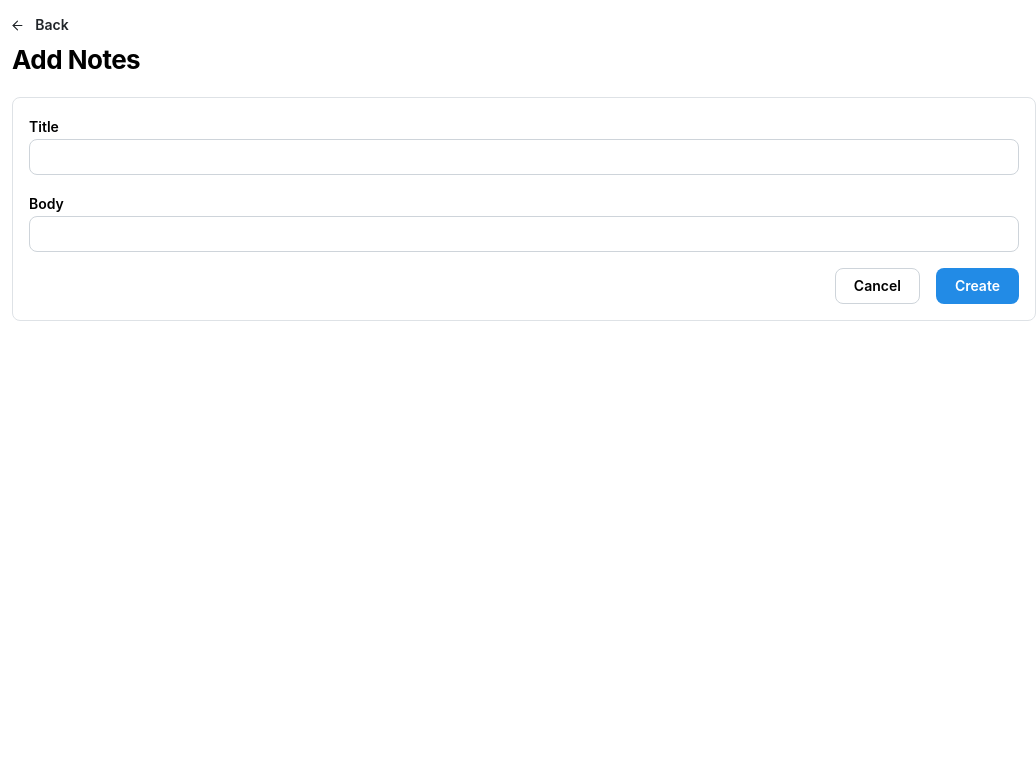
Scenario: CreatePage › surfaces a failed create and does not navigate away
Click the button "Create".
click(977, 286)  # box [936,268,1019,304]
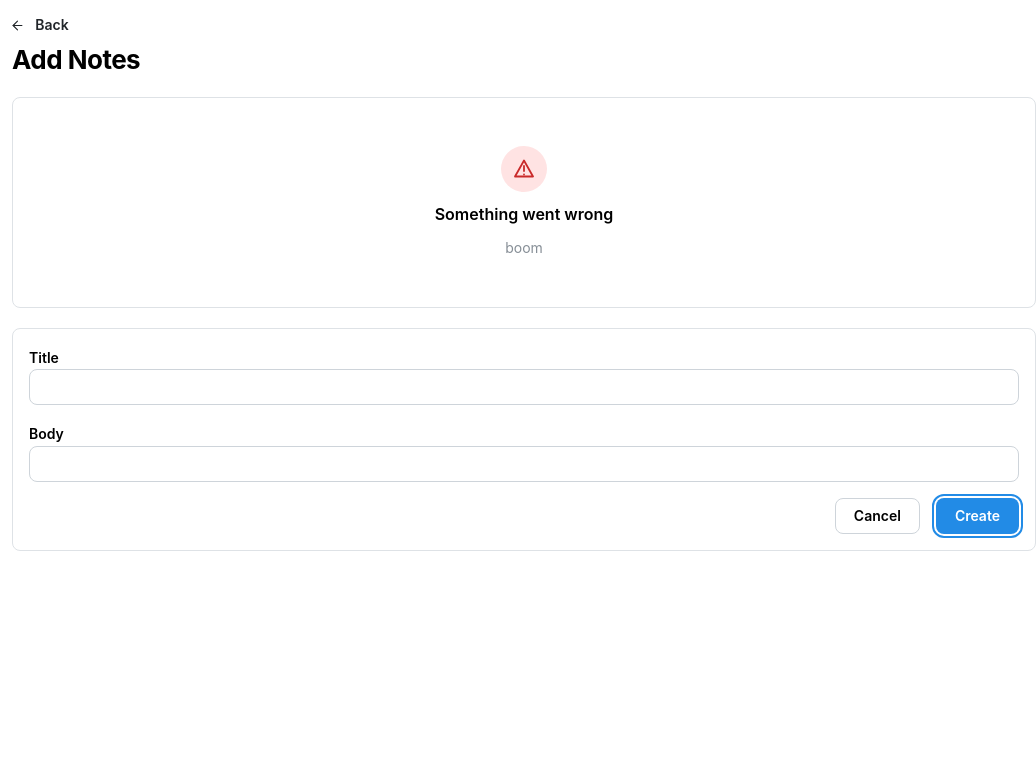
Expected: the text "boom" is shown, [505,237,543,259]
